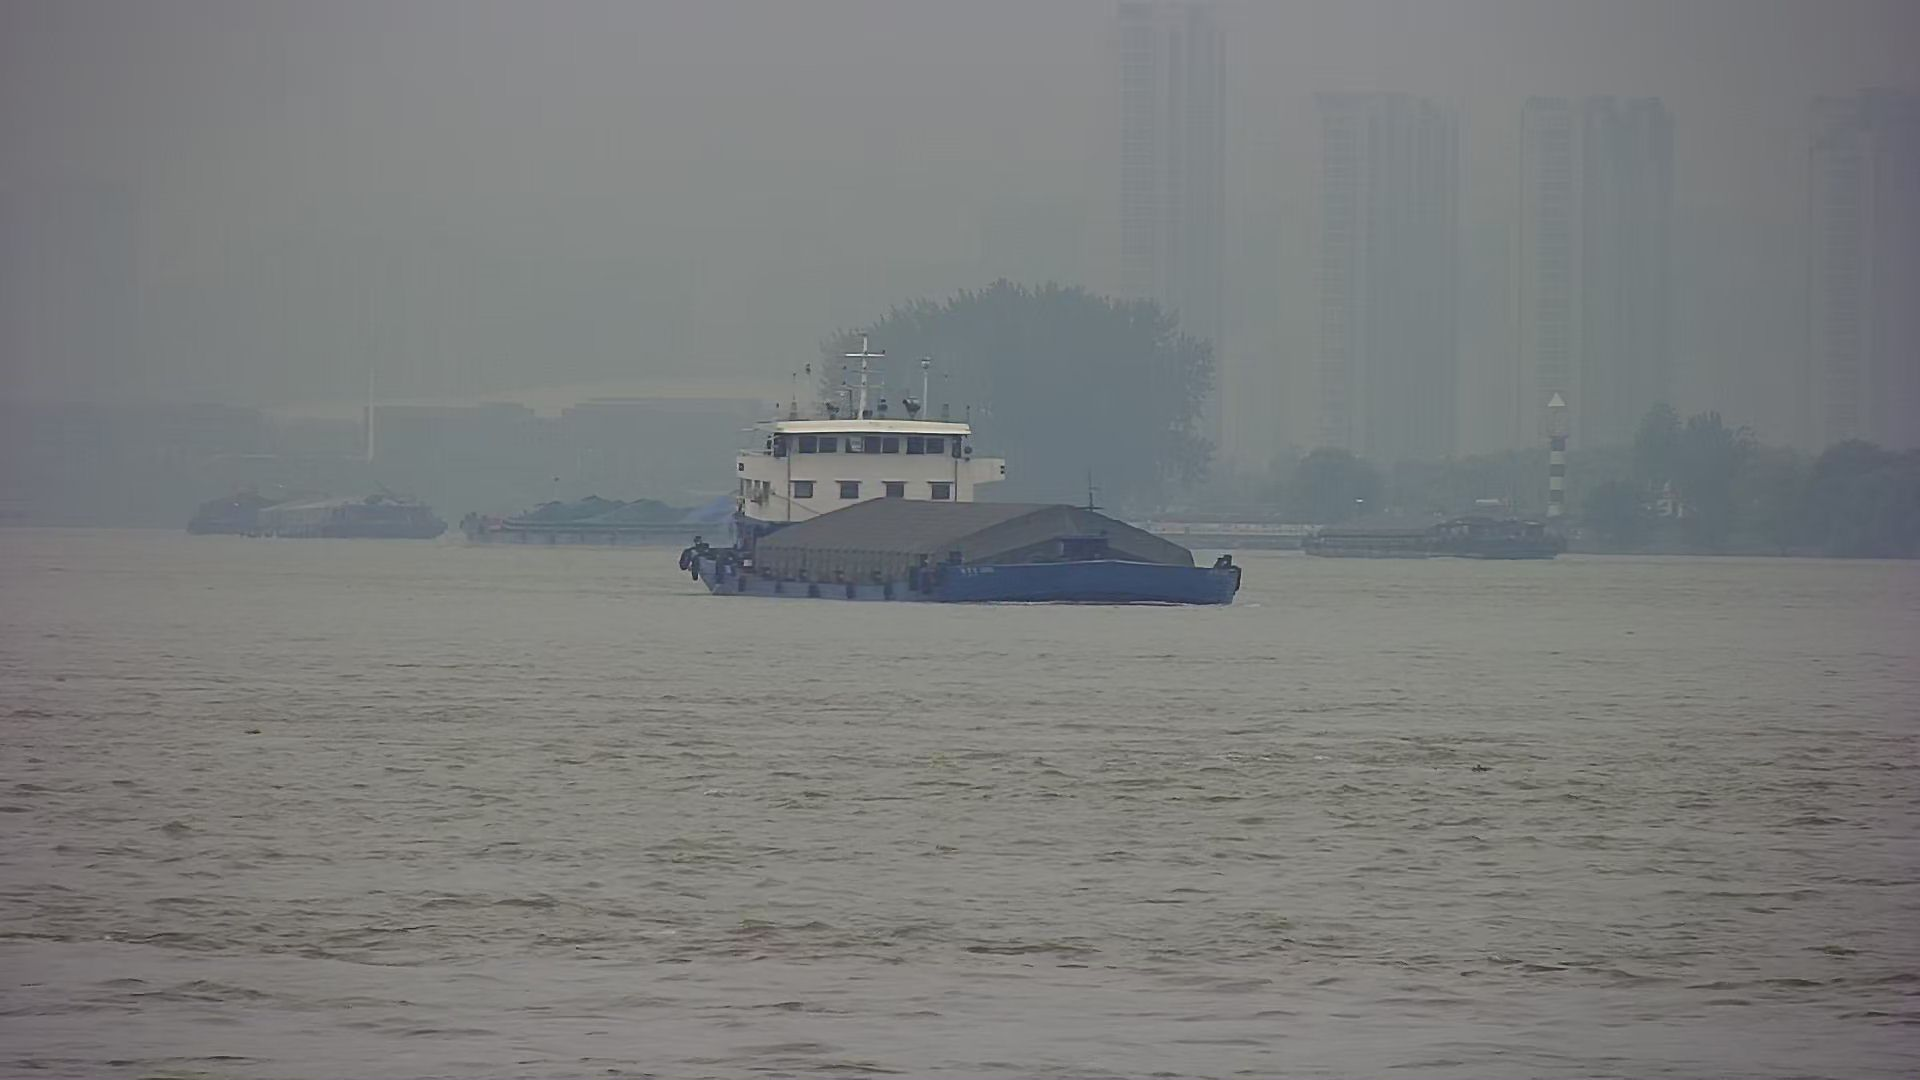ship: (665, 351, 1259, 615), (1292, 487, 1594, 566), (173, 473, 458, 547)
